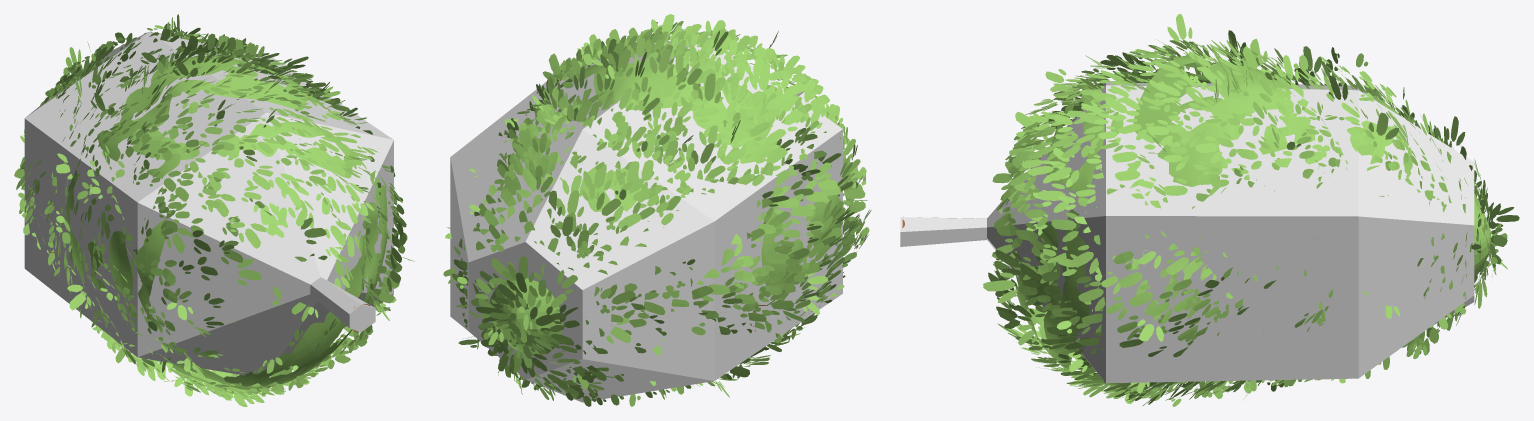
File: big_tree.fbx
3 views of the same model, side by side, from view 1: azimuth 30°, elevation 25°; view 2: azimuth 150°, elevation 25°; view 3: azimuth 270°, elevation 25° (orthographic). The views are drawn at different scales.
Visible parts, largest first — view 1: c_big_tree, big_tree; view 2: big_tree, c_big_tree; view 3: c_big_tree, big_tree.
Part boxes in pixels (x1,y1,x2,y2): c_big_tree: (24,32,393,375); big_tree: (14,14,414,406); big_tree: (443,14,871,406); c_big_tree: (450,35,842,402); c_big_tree: (900,81,1474,383); big_tree: (902,14,1519,406).
Size of the model in its own units: 713 by 723 by 1125.
